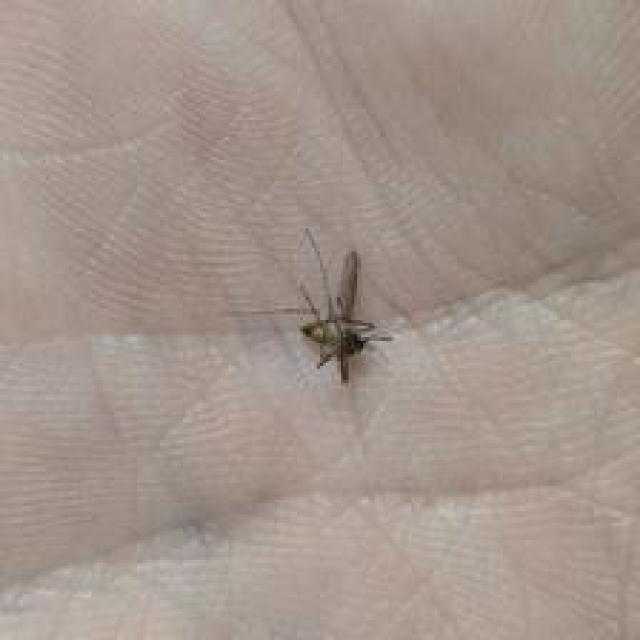Culex: (223, 226, 400, 386)
